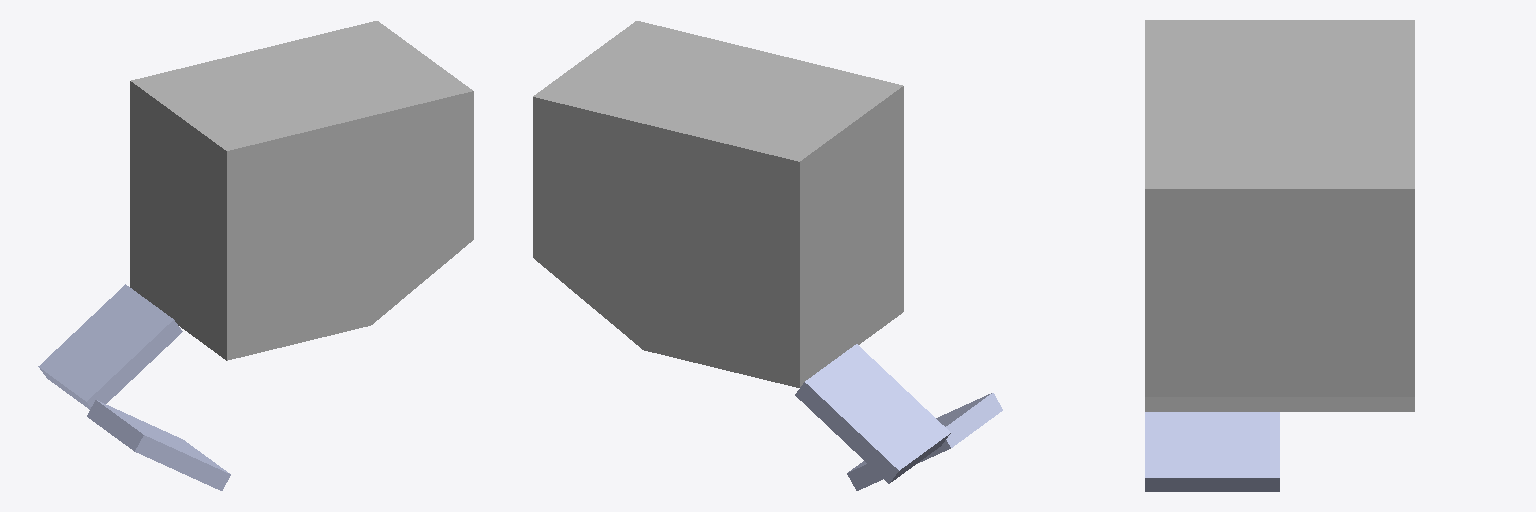
robot.urdf — urdf_1flex_assem.SLDASM:
<?xml version="1.0" encoding="utf-8"?>
<!-- This URDF was automatically created by SolidWorks to URDF Exporter! Originally created by [author] ([email redacted]) 
     Commit Version: 1.6.0-4-g7f85cfe  Build Version: 1.6.7995.38578
     For more information, please see http://wiki.ros.org/sw_urdf_exporter -->
<robot
  name="urdf_1flex_assem.SLDASM">
  <link
    name="base_link">
    <inertial>
      <origin
        xyz="0.043461 -0.039545 0.0033132"
        rpy="0 0 0" />
      <mass
        value="0.0066791" />
      <inertia
        ixx="3.2763E-07"
        ixy="2.8997E-08"
        ixz="4.039E-24"
        iyy="4.3211E-07"
        iyz="5.2507E-24"
        izz="4.792E-07" />
    </inertial>
    <visual>
      <origin
        xyz="0 0 0"
        rpy="0 0 0" />
      <geometry>
        <mesh
          filename="package://urdf_1flex_assem.SLDASM/meshes/base_link.STL" />
      </geometry>
      <material
        name="">
        <color
          rgba="0.75294 0.75294 0.75294 1" />
      </material>
    </visual>
    <collision>
      <origin
        xyz="0 0 0"
        rpy="0 0 0" />
      <geometry>
        <mesh
          filename="package://urdf_1flex_assem.SLDASM/meshes/base_link.STL" />
      </geometry>
    </collision>
  </link>
  <link
    name="flexure_1">
    <inertial>
      <origin
        xyz="-0.0041572 0.0027781 0.0039688"
        rpy="0 0 0" />
      <mass
        value="0.00012601" />
      <inertia
        ixx="1.0041E-09"
        ixy="4.7287E-10"
        ixz="5.4893E-26"
        iyy="1.3956E-09"
        iyz="-5.6148E-26"
        izz="1.0765E-09" />
    </inertial>
    <visual>
      <origin
        xyz="0 0 0"
        rpy="0 0 0" />
      <geometry>
        <mesh
          filename="package://urdf_1flex_assem.SLDASM/meshes/flexure_1.STL" />
      </geometry>
      <material
        name="">
        <color
          rgba="0.79216 0.81961 0.93333 1" />
      </material>
    </visual>
    <collision>
      <origin
        xyz="0 0 0"
        rpy="0 0 0" />
      <geometry>
        <mesh
          filename="package://urdf_1flex_assem.SLDASM/meshes/flexure_1.STL" />
      </geometry>
    </collision>
  </link>
  <joint
    name="flexure_1"
    type="revolute">
    <origin
      xyz="0.032256 -0.0033132 -0.02953"
      rpy="1.5708 0 0" />
    <parent
      link="base_link" />
    <child
      link="flexure_1" />
    <axis
      xyz="0 0 0" />
    <limit
      lower="0"
      upper="0"
      effort="0"
      velocity="0" />
  </joint>
  <link
    name="flexure_2">
    <inertial>
      <origin
        xyz="-0.0041572 0.0027781 0.0039688"
        rpy="0 0 0" />
      <mass
        value="0.00012601" />
      <inertia
        ixx="1.0041E-09"
        ixy="4.7287E-10"
        ixz="1.933E-25"
        iyy="1.3956E-09"
        iyz="-1.0663E-25"
        izz="1.0765E-09" />
    </inertial>
    <visual>
      <origin
        xyz="0 0 0"
        rpy="0 0 0" />
      <geometry>
        <mesh
          filename="package://urdf_1flex_assem.SLDASM/meshes/flexure_2.STL" />
      </geometry>
      <material
        name="">
        <color
          rgba="0.79216 0.81961 0.93333 1" />
      </material>
    </visual>
    <collision>
      <origin
        xyz="0 0 0"
        rpy="0 0 0" />
      <geometry>
        <mesh
          filename="package://urdf_1flex_assem.SLDASM/meshes/flexure_2.STL" />
      </geometry>
    </collision>
  </link>
  <joint
    name="flexure_2"
    type="revolute">
    <origin
      xyz="-0.0083143 0.0055563 -0.0079375"
      rpy="0 0 -1.9634" />
    <parent
      link="flexure_1" />
    <child
      link="flexure_2" />
    <axis
      xyz="0 0 0" />
    <limit
      lower="0"
      upper="0"
      effort="0"
      velocity="0" />
  </joint>
  <link
    name="top_link">
    <inertial>
      <origin
        xyz="0.011205 0.0026844 4.3368E-19"
        rpy="0 0 0" />
      <mass
        value="0.0066791" />
      <inertia
        ixx="3.2763E-07"
        ixy="2.8997E-08"
        ixz="-2.2859E-24"
        iyy="4.3211E-07"
        iyz="-1.7436E-23"
        izz="4.792E-07" />
    </inertial>
    <visual>
      <origin
        xyz="0 0 0"
        rpy="0 0 0" />
      <geometry>
        <mesh
          filename="package://urdf_1flex_assem.SLDASM/meshes/top_link.STL" />
      </geometry>
      <material
        name="">
        <color
          rgba="0.75294 0.75294 0.75294 1" />
      </material>
    </visual>
    <collision>
      <origin
        xyz="0 0 0"
        rpy="0 0 0" />
      <geometry>
        <mesh
          filename="package://urdf_1flex_assem.SLDASM/meshes/top_link.STL" />
      </geometry>
    </collision>
  </link>
  <joint
    name="top_link"
    type="revolute">
    <origin
      xyz="-0.020048 0.00069772 0.0079375"
      rpy="3.1416 0 1.9634" />
    <parent
      link="flexure_2" />
    <child
      link="top_link" />
    <axis
      xyz="0 0 0" />
    <limit
      lower="0"
      upper="0"
      effort="0"
      velocity="0" />
  </joint>
</robot>

--- Facts derived from the render (not from the file) ---
3 views of the same robot in one strip: view 1: azimuth 30°, elevation 25°; view 2: azimuth 150°, elevation 25°; view 3: azimuth 270°, elevation 25° (orthographic).
Model urdf_1flex_assem.SLDASM with 4 links and 3 joints (3 revolute), rooted at base_link, posed every joint at zero.
Visible links, largest first — view 1: top_link, flexure_2, flexure_1; view 2: top_link, flexure_2, flexure_1; view 3: top_link, flexure_1.
Boxes of the visible links, x1,y1,x2,y2 form: top_link: [130, 21, 473, 360]; flexure_2: [38, 284, 182, 409]; flexure_1: [87, 400, 230, 490]; top_link: [533, 21, 903, 387]; flexure_2: [795, 344, 950, 483]; flexure_1: [847, 393, 1002, 490]; top_link: [1145, 20, 1414, 411]; flexure_1: [1145, 412, 1279, 491].
Bounding box of the posed robot: 0.0323 × 0.0159 × 0.0308 m (x, y, z).
3 mesh visuals loaded from 4 distinct referenced files (3 binary STL); not drawn: 1 (reference not matched to a file when rendering).
